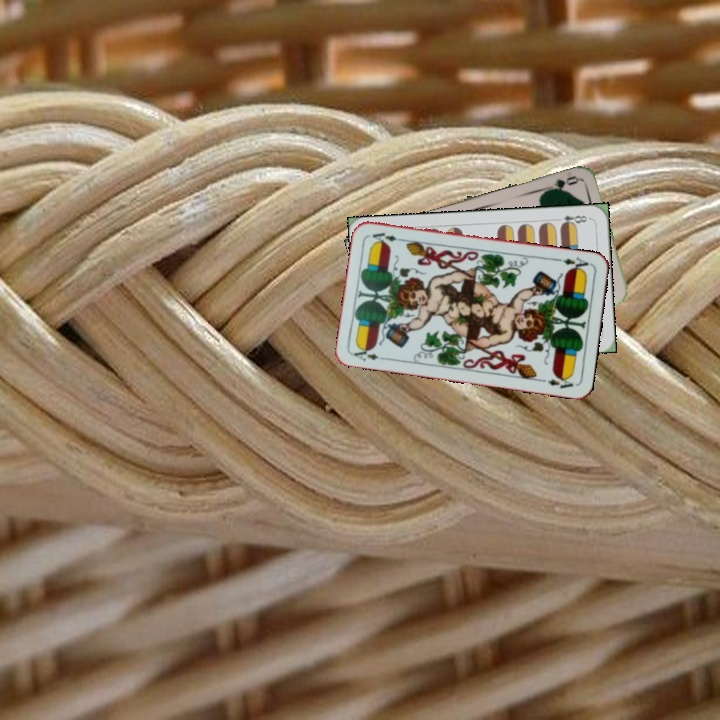E8: (557, 211, 592, 229)
EA: (553, 253, 594, 274), (350, 343, 390, 364)
GO: (541, 172, 581, 194)
